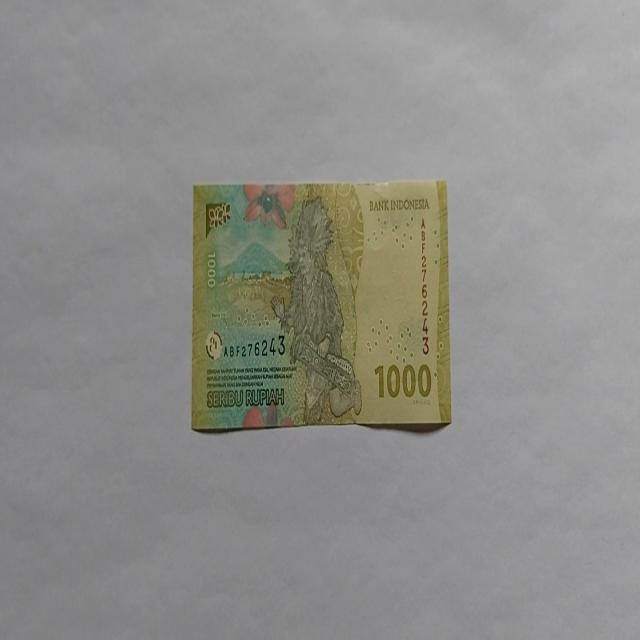seribu rupiah kertas: (190, 178, 452, 433)
